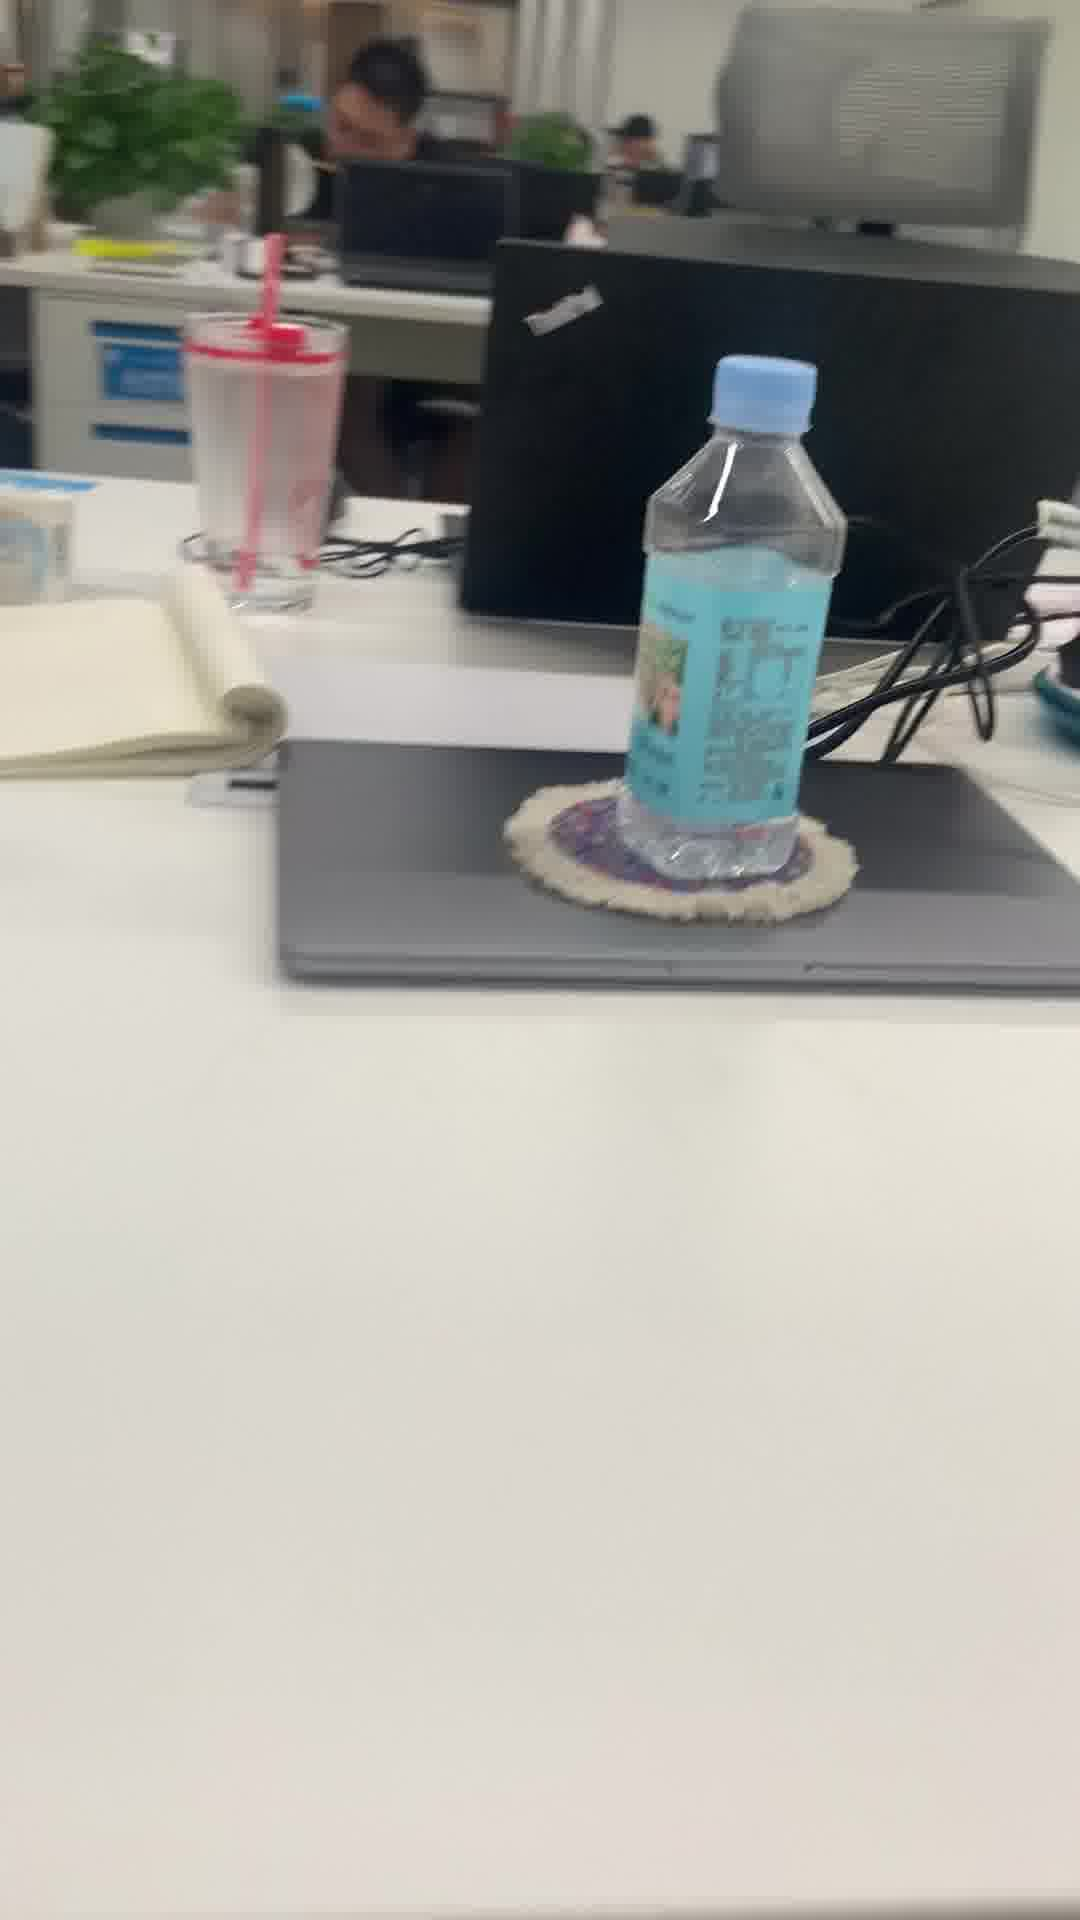水瓶: (622, 347, 853, 882)
